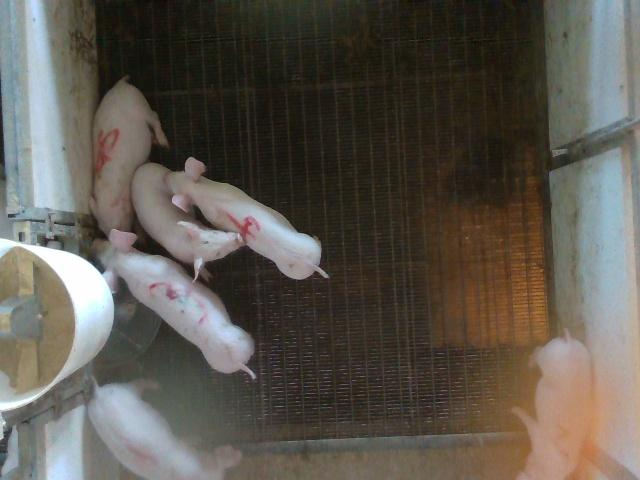pig-1: (88, 386, 206, 479)
pig-2: (512, 335, 592, 478)
pig-3: (92, 229, 255, 378)
pig-4: (166, 159, 329, 278)
pig-5: (90, 76, 169, 234)
